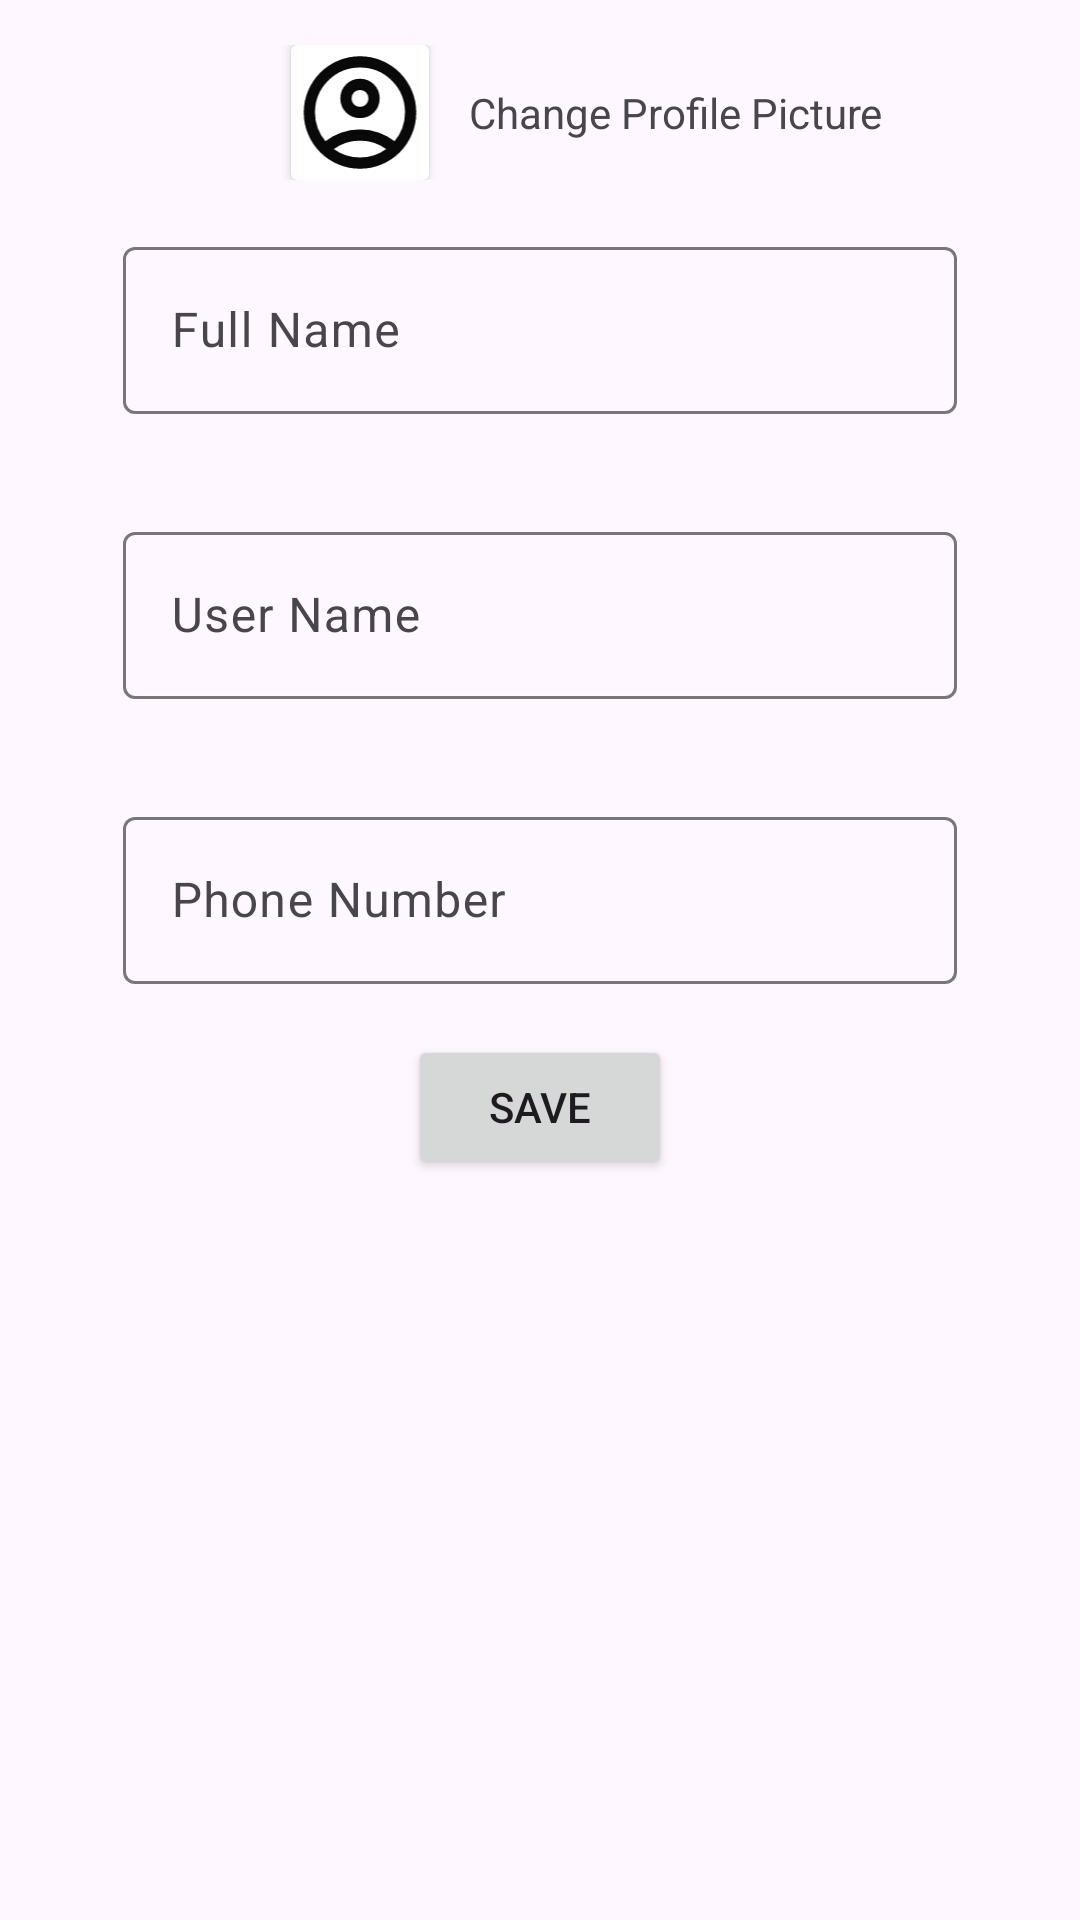

Where to tap for icons on this 1080 x 1920 app screen, as (x=x, y=y):
account circle: (x=360, y=112)
